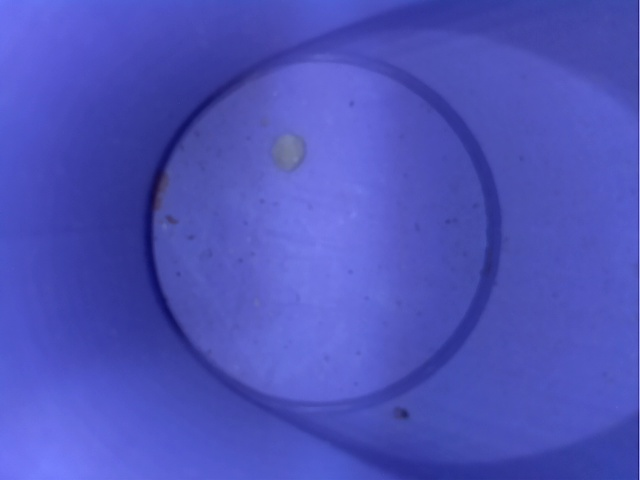caillou: (255, 120, 316, 180)
